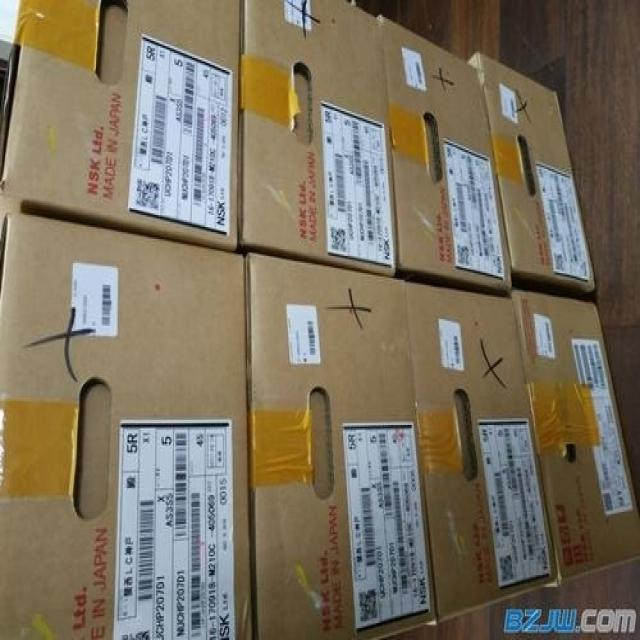box: (0, 215, 253, 640), (246, 251, 436, 640), (0, 0, 241, 251), (403, 280, 558, 621), (238, 0, 397, 276), (512, 288, 640, 582), (379, 17, 512, 294), (467, 49, 598, 292)
